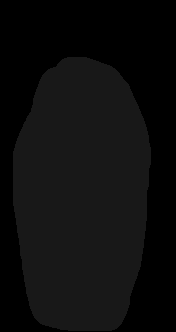fp: (4, 46, 157, 327)
